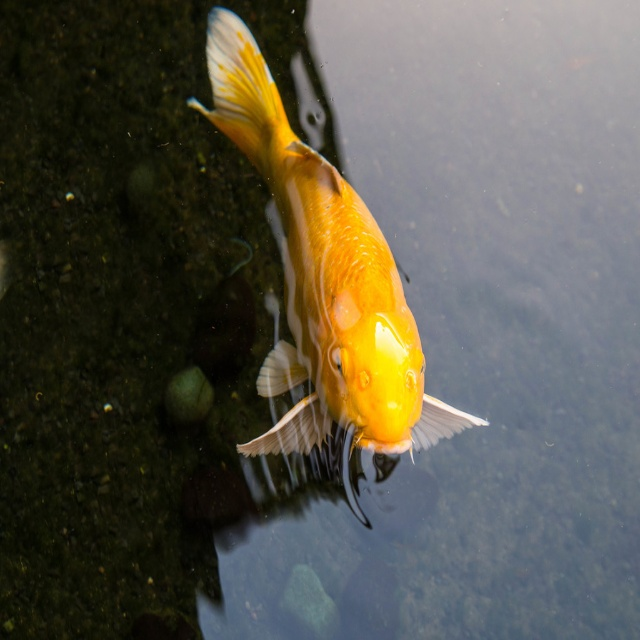Fish: (186, 7, 488, 462)
